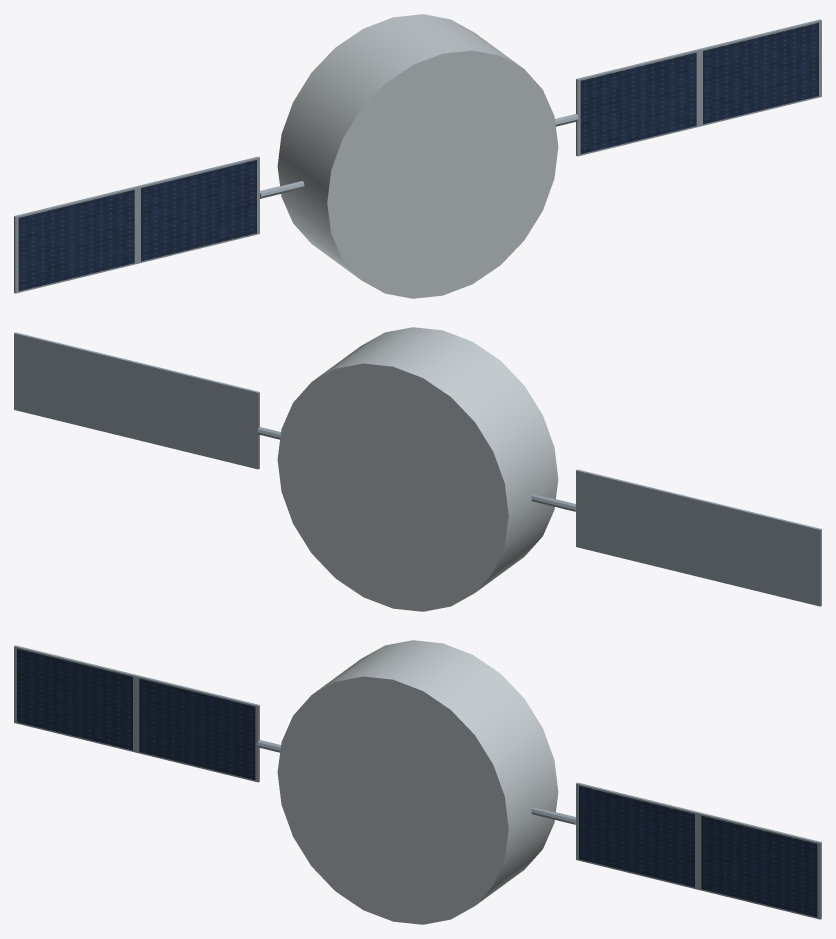
The model's file is ref-bb-block-2-67232.glb.
3 renders of one model, top to bottom at view 1: azimuth 30°, elevation 25°; view 2: azimuth 150°, elevation 25°; view 3: azimuth 330°, elevation 25°, orthographic.
Parts seen in each view (by area): view 1: Spacecraft body, Photovoltaic laminates (×4), Array frame (×4); view 2: Spacecraft body, Array frame (×4); view 3: Spacecraft body, Photovoltaic laminates (×4), Array frame (×4).
Part boxes in pixels (left/top/right/bottom): Spacecraft body: left=277, top=14, right=558, bottom=298; Photovoltaic laminates (×4): left=18, top=22, right=818, bottom=291; Array frame (×4): left=14, top=19, right=821, bottom=293; Spacecraft body: left=277, top=327, right=558, bottom=611; Array frame (×4): left=14, top=332, right=821, bottom=606; Spacecraft body: left=277, top=640, right=558, bottom=924; Photovoltaic laminates (×4): left=17, top=648, right=817, bottom=917; Array frame (×4): left=14, top=645, right=821, bottom=919.
Size of the model in its own units: 15 by 4.3 by 1.6.
3 materials, 1 textured.
